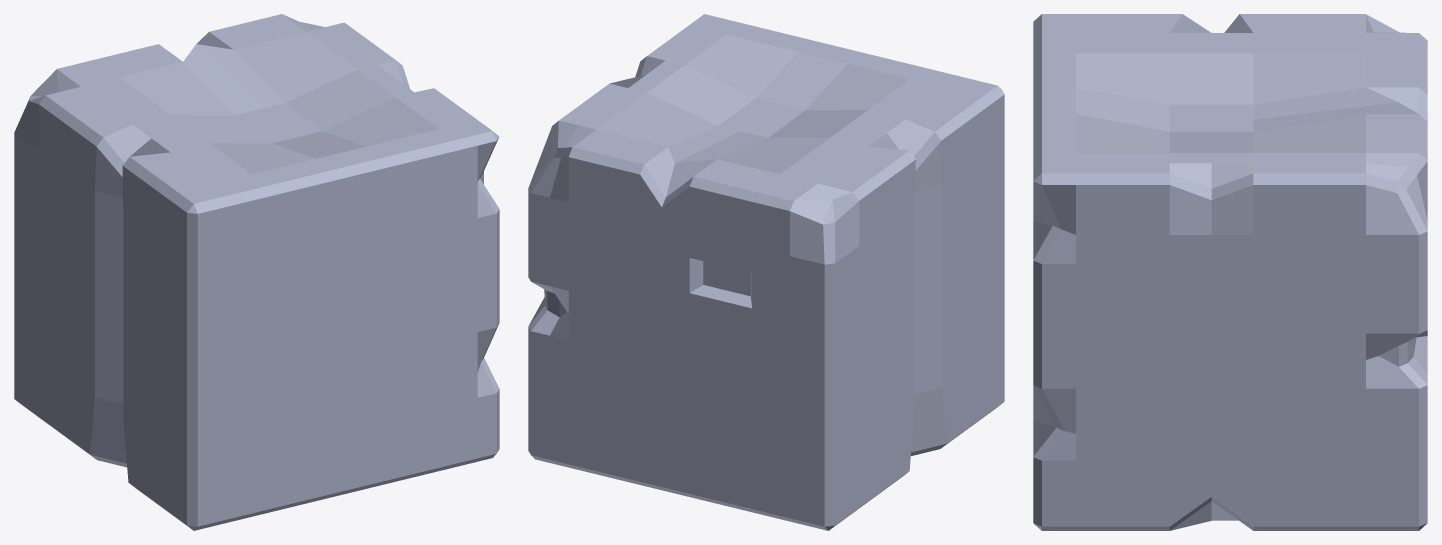
The model's file is Stone_5.fbx.
3 renders of one model, left to right at view 1: azimuth 30°, elevation 25°; view 2: azimuth 150°, elevation 25°; view 3: azimuth 270°, elevation 25°, orthographic. The views are drawn at different scales.
Visible parts, largest first — view 1: Stone_5; view 2: Stone_5; view 3: Stone_5.
Part boxes in pixels (x1,y1,x2,y2): Stone_5: (14,14,499,530); Stone_5: (528,14,1004,530); Stone_5: (1033,14,1427,530).
Size of the model in its own units: 200 by 200 by 200.
